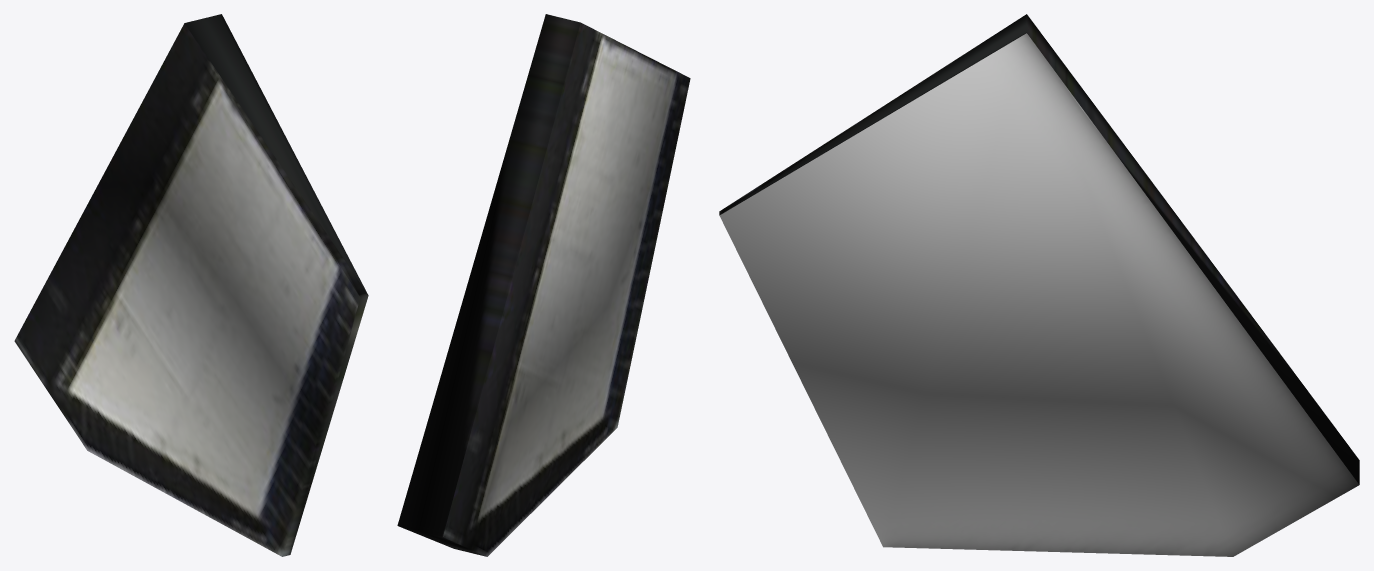
File: tailBreakDown.fbx
The picture shows the model from 3 angles, left to right: view 1: azimuth 30°, elevation 25°; view 2: azimuth 150°, elevation 25°; view 3: azimuth 270°, elevation 25°; orthographic projection. The views are drawn at different scales.
Parts seen in each view (by area): view 1: tailBreakDown; view 2: tailBreakDown; view 3: tailBreakDown.
Part boxes in pixels (box(x1,y1,x2,y2)): tailBreakDown: box(14, 14, 368, 556); tailBreakDown: box(397, 14, 690, 556); tailBreakDown: box(719, 14, 1359, 556).
Size of the model in its own units: 1.03 by 10.12 by 11.2.
